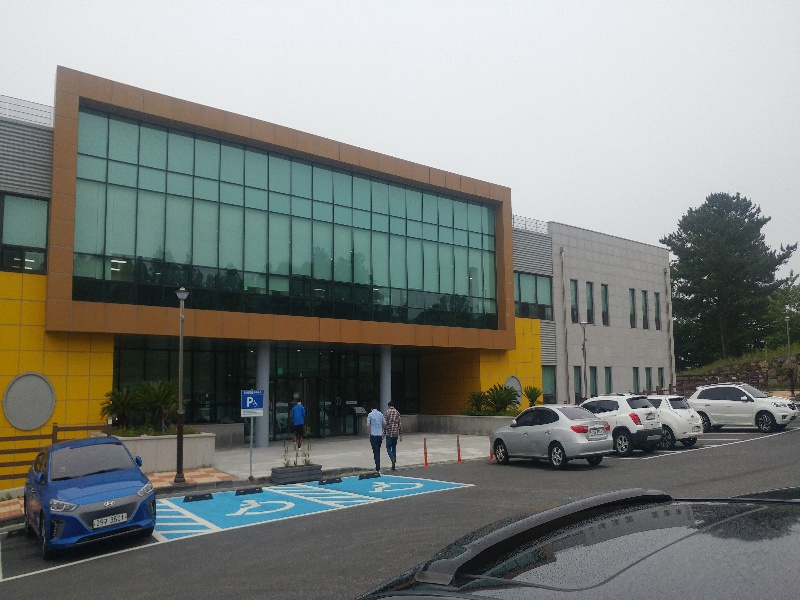Digital Library: (7, 72, 677, 401), (45, 86, 551, 405), (59, 73, 532, 349)
